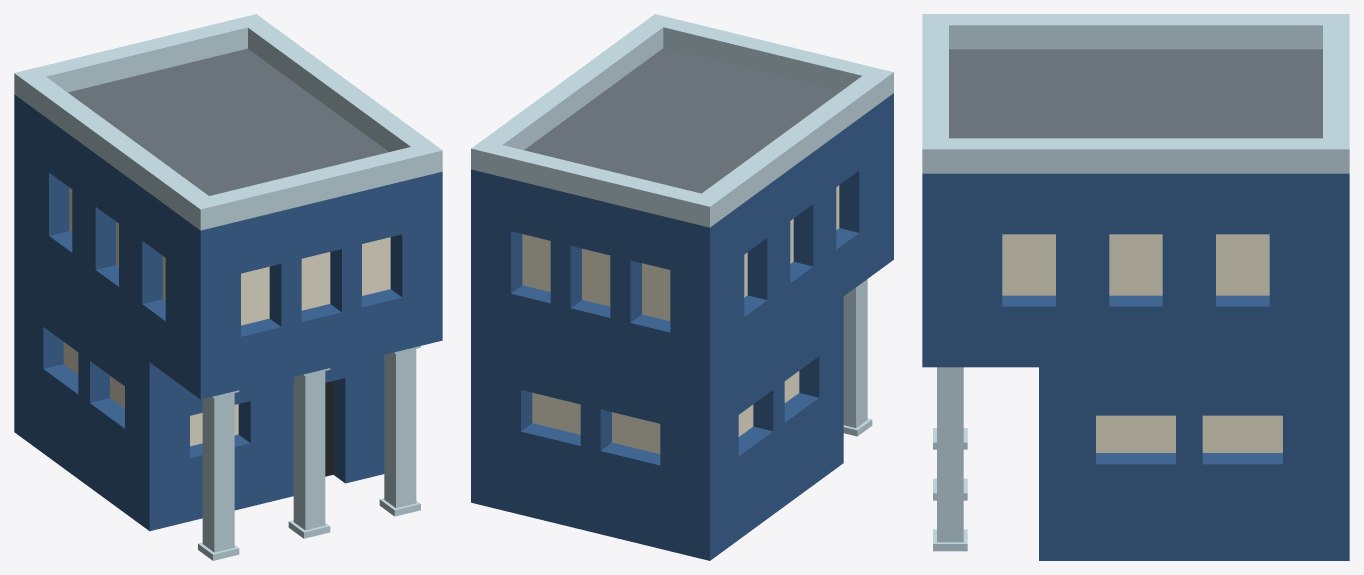
Rendered from Building_7 (Blue).obj.
3 views of the same model, side by side, from view 1: azimuth 30°, elevation 25°; view 2: azimuth 150°, elevation 25°; view 3: azimuth 270°, elevation 25° (orthographic). The views are drawn at different scales.
Parts seen in each view (by area): view 1: Building_7_(Blue); view 2: Building_7_(Blue); view 3: Building_7_(Blue).
Boxes of the visible parts, left/top/right/bottom form: Building_7_(Blue): left=14, top=14, right=442, bottom=560; Building_7_(Blue): left=471, top=14, right=893, bottom=560; Building_7_(Blue): left=922, top=14, right=1349, bottom=560.
Bounding box in the file's own units: 1.2 × 1.7 × 1.6.
